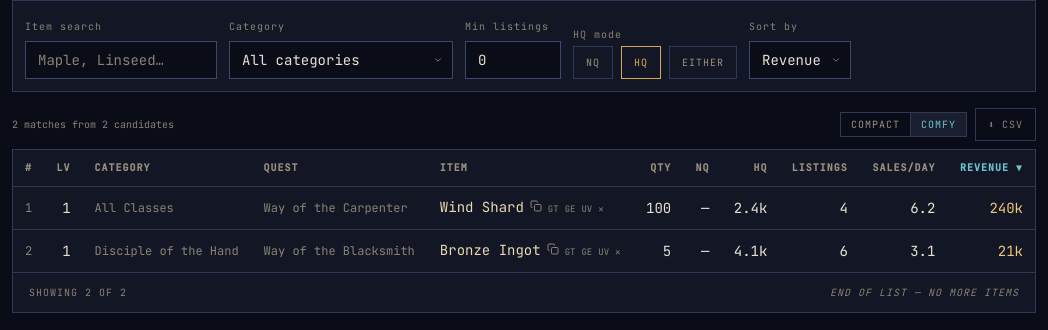
Test case: QuestItemFlipView › item search filters by item name
Expected: the link "Wind Shard" is shown, [440,197,524,217]
Step 1. Type "bronze" into the field labelled "Item search" → (121, 60), box [25,41,217,79]
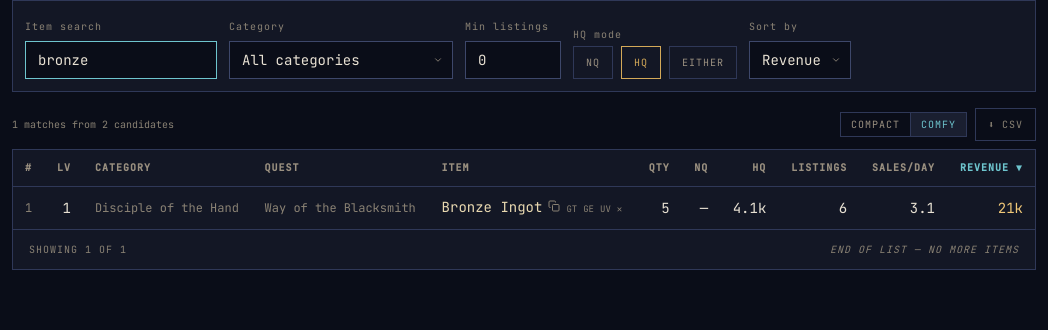
Expected: the link "Bronze Ingot" is shown, [442,197,542,217]
Result: the link "Wind Shard" is gone
